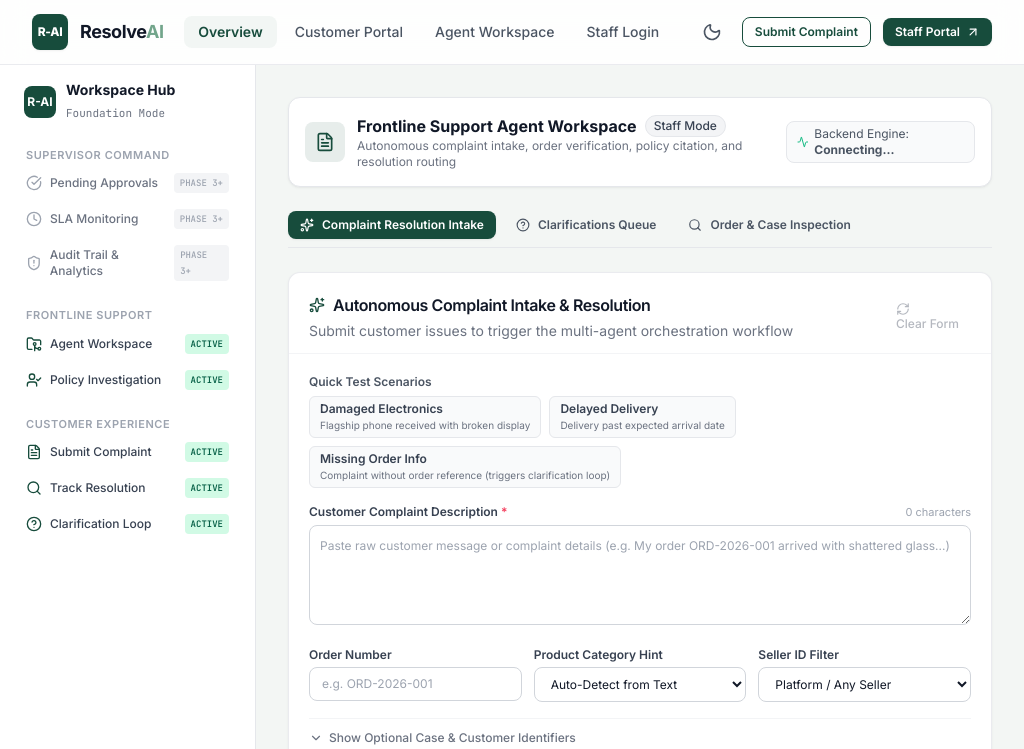
Test: Support Agent Workspace › AgentWorkspacePage End-to-End Workflow Integration › displays workflow error banner on network or API failure
Replace the text in the text box labelled "Customer Complaint Description *" with "My delivery was delayed." at (640, 574), box top-left (309, 524), bottom-right (971, 624)
(page scrolled)
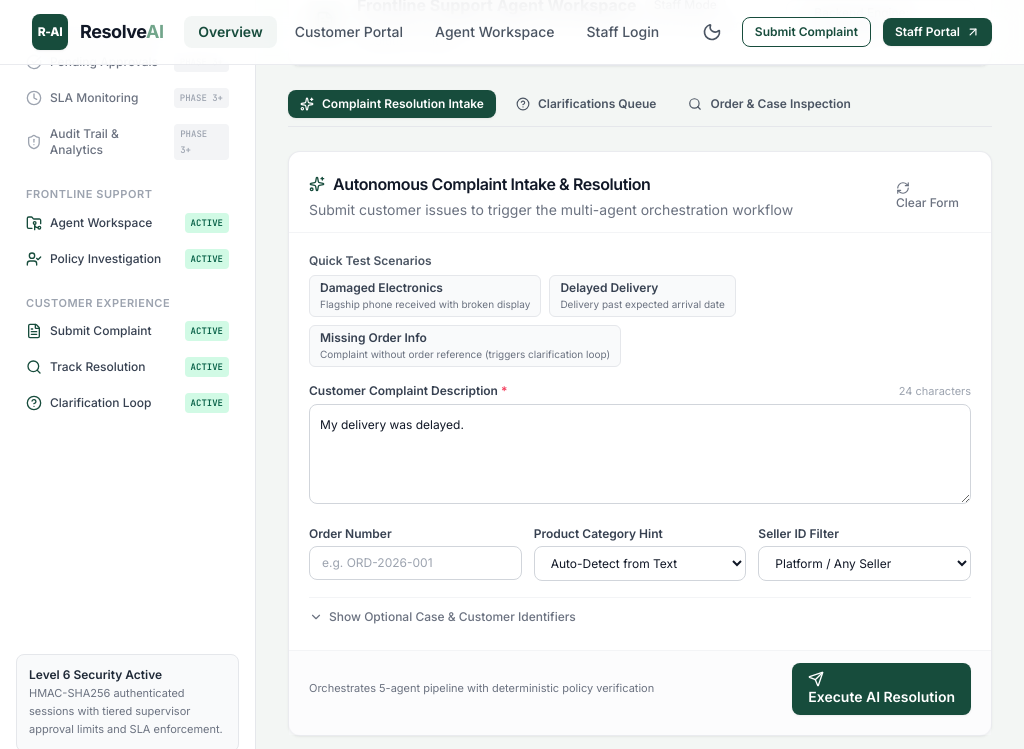
Click the button "Execute AI Resolution" at (882, 688), box top-left (792, 662), bottom-right (971, 714)
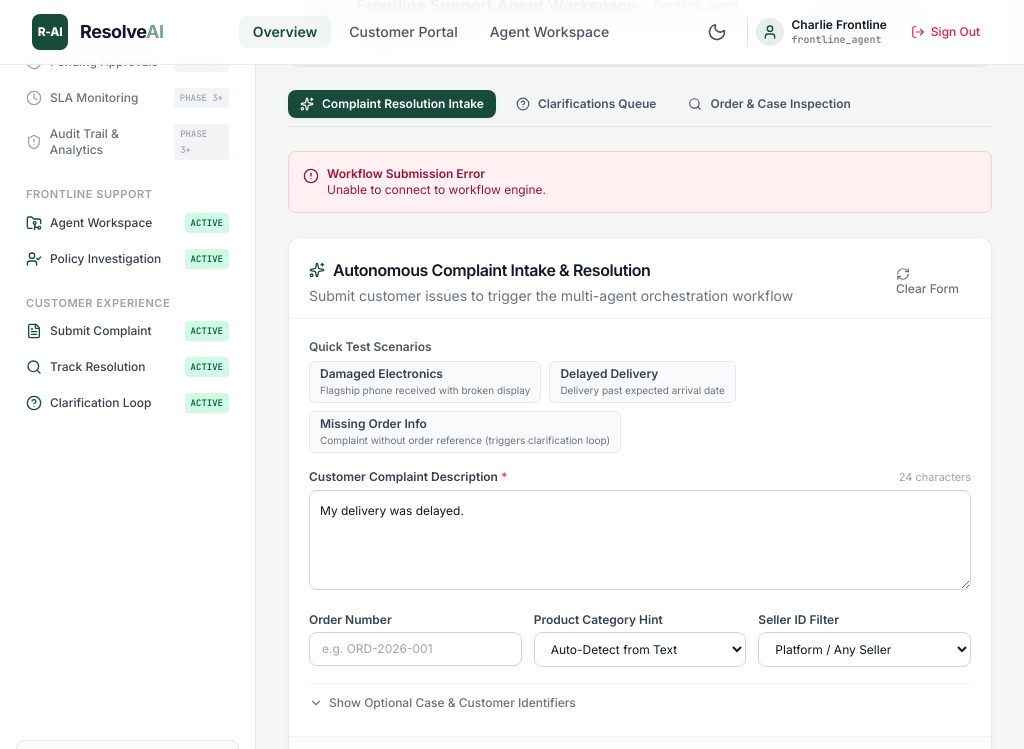
Result: the message shows "Unable to connect to workflow engine" at top-left (327, 182), bottom-right (546, 197)
